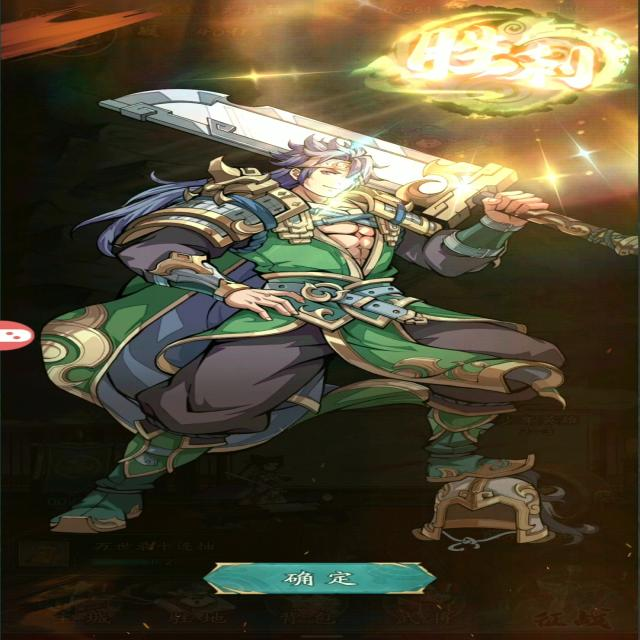operation-confirm: (193, 546, 444, 603)
